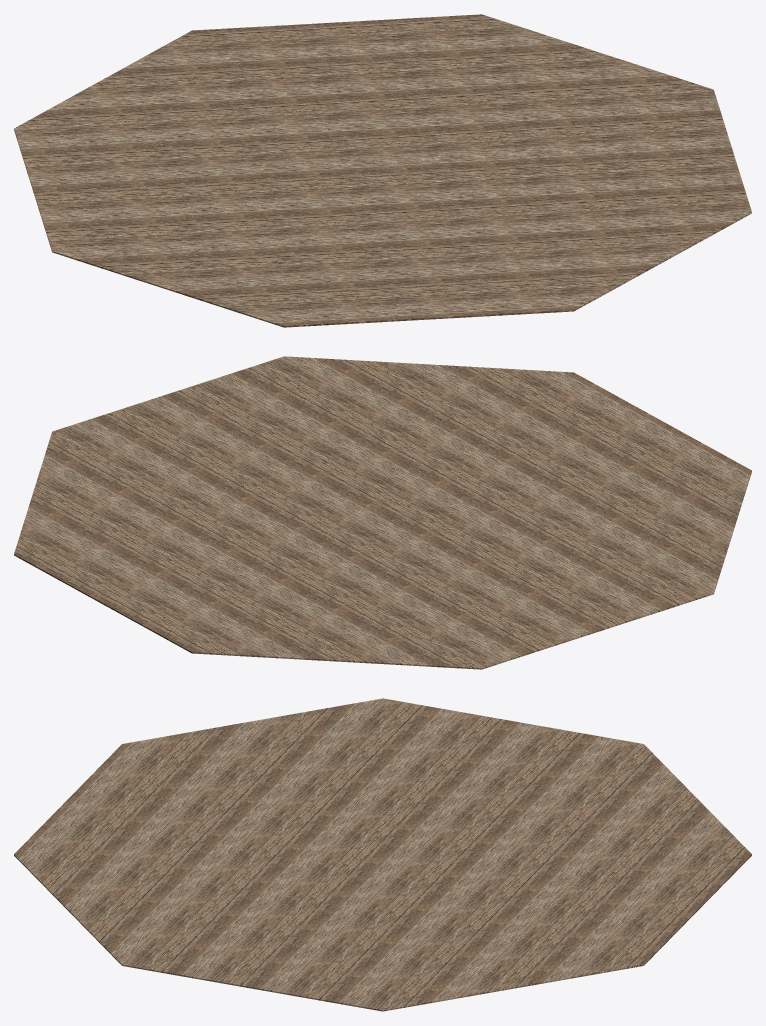
File: techo2.obj
3 views of the same model, one above another, from view 1: azimuth 30°, elevation 25°; view 2: azimuth 150°, elevation 25°; view 3: azimuth 270°, elevation 25° (orthographic). The views are drawn at different scales.
Parts seen in each view (by area): view 1: techo2; view 2: techo2; view 3: techo2.
Boxes of the visible parts, box(x1,y1,x2,y2) form: techo2: box(14, 14, 751, 327); techo2: box(14, 356, 751, 669); techo2: box(14, 698, 751, 1011).
Size of the model in its own units: 23.44 by 0.047 by 23.44.
Materials: 1 (1 with a texture image).
